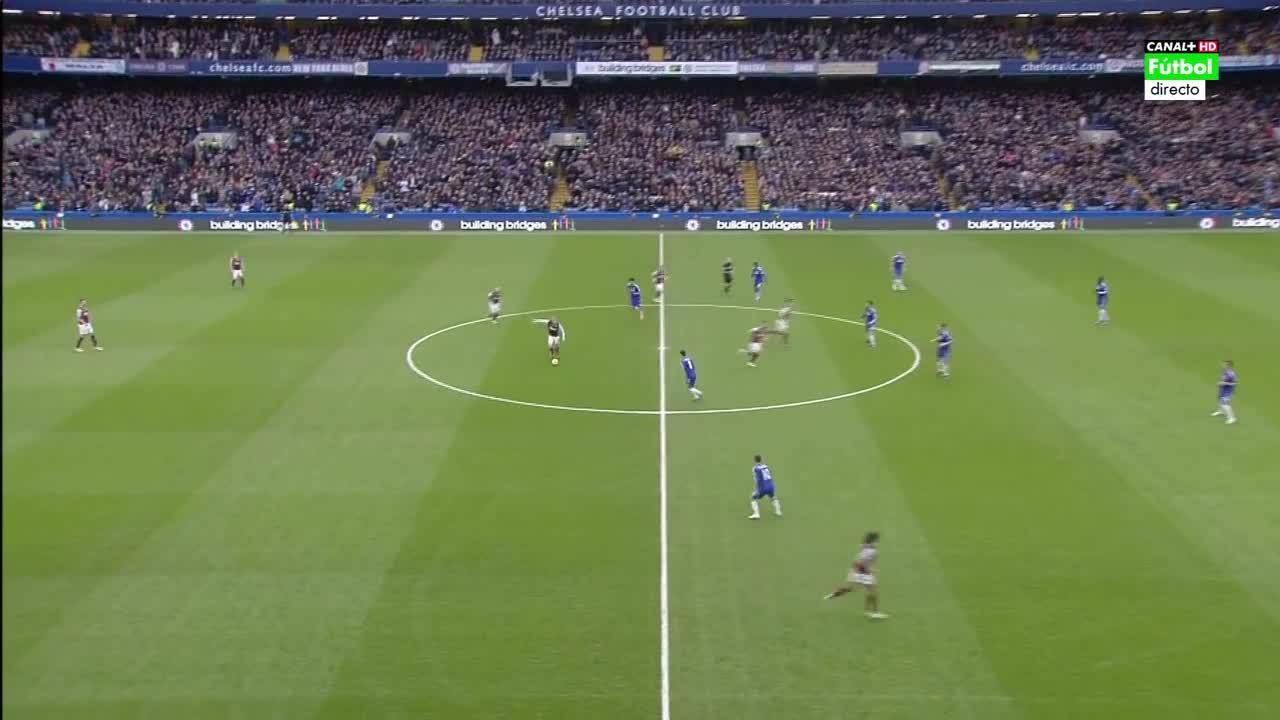football: (552, 359, 559, 367)
